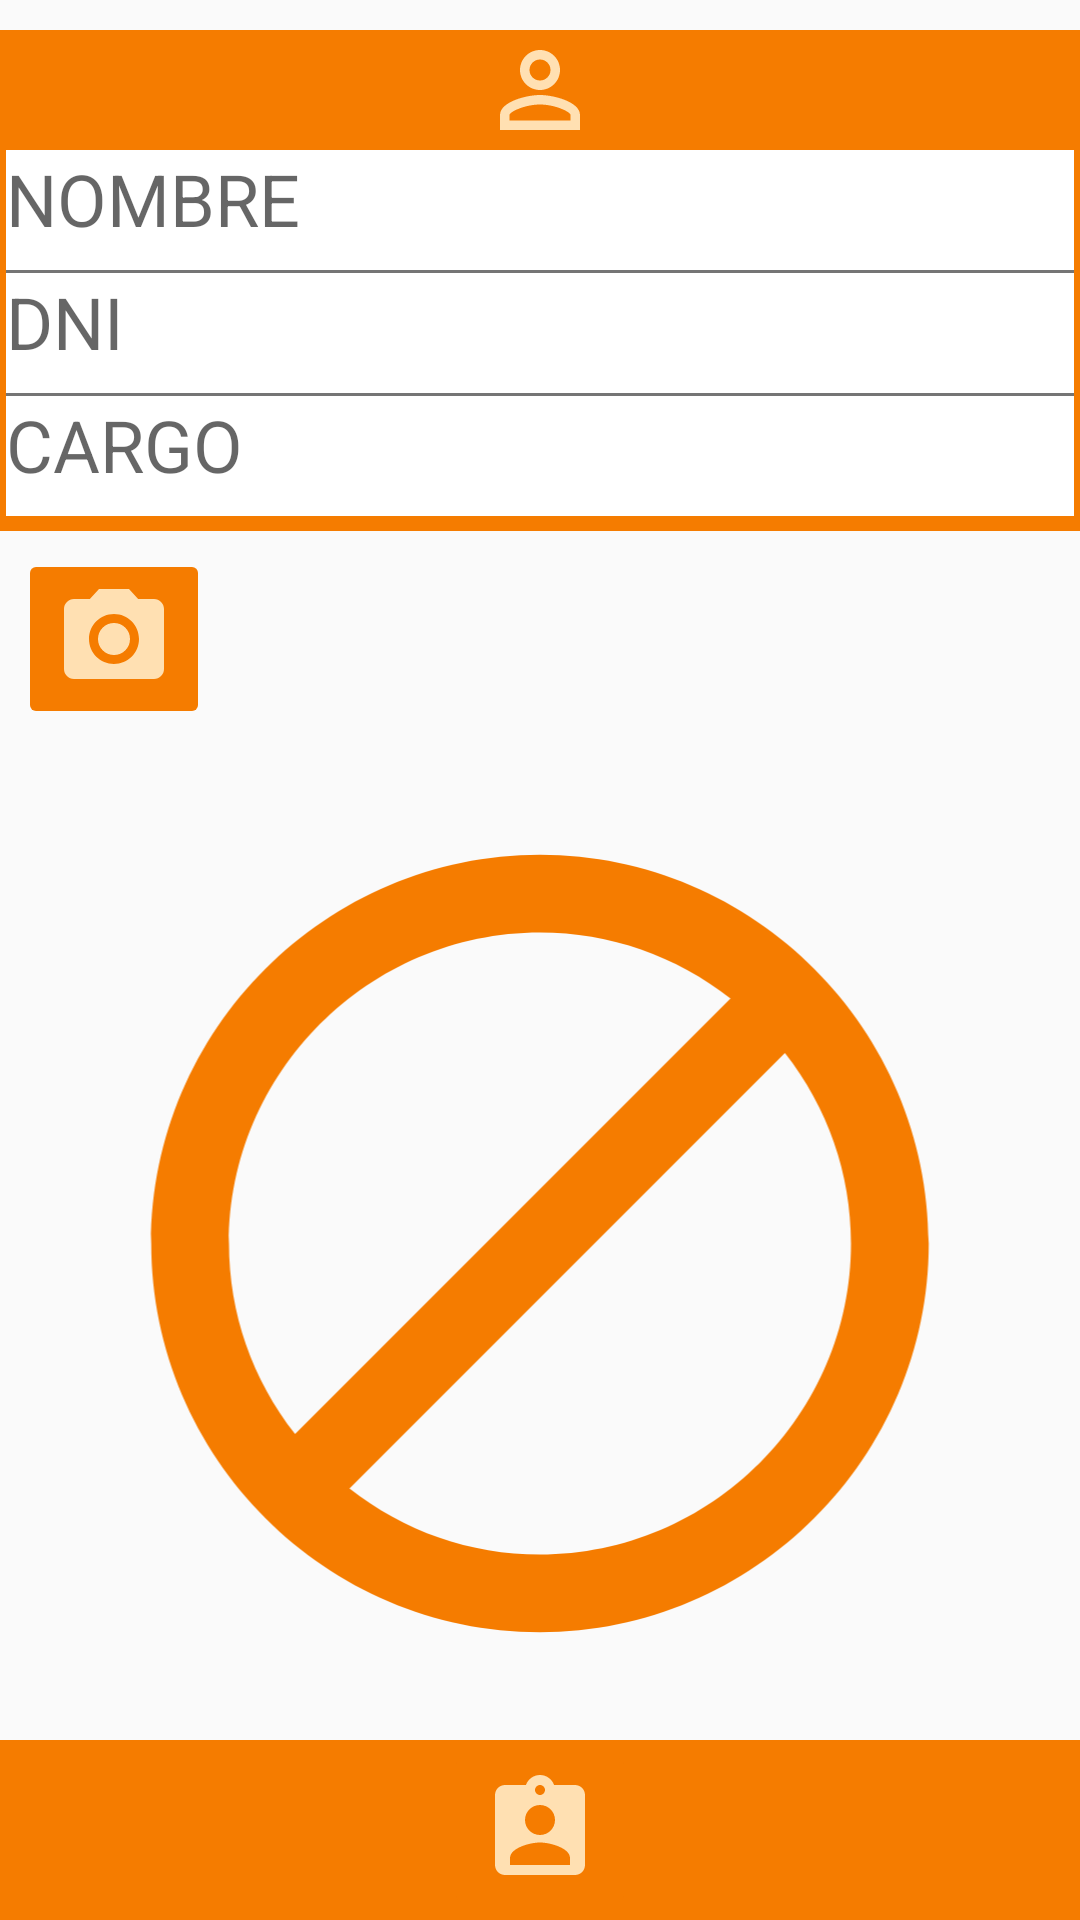

Screen size 1080 × 1920. Icon name, then its box in pixels as BBox(x1, y1, x2, y2):
assignment ind: BBox(495, 1775, 585, 1875)
perm identity autorizado: BBox(500, 50, 580, 130)
photo camera: BBox(30, 567, 198, 711)
